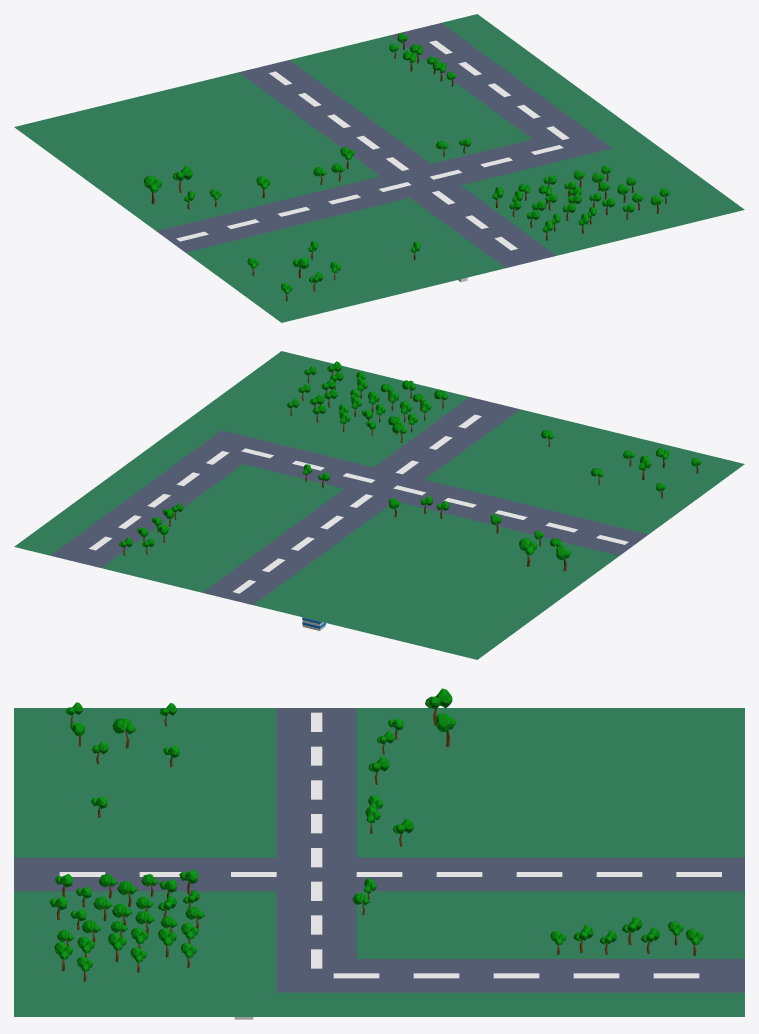
Rendered from city_iso.gltf.
The picture shows the model from 3 angles, top to bottom: view 1: azimuth 30°, elevation 25°; view 2: azimuth 150°, elevation 25°; view 3: azimuth 270°, elevation 25°; orthographic projection. The views are drawn at different scales.
Parts seen in each view (by area): view 1: ground; view 2: ground; view 3: ground.
Boxes of the visible parts, bbox=[...] form: ground: bbox=[14, 14, 744, 322]; ground: bbox=[14, 351, 744, 659]; ground: bbox=[14, 708, 744, 1016].
Size of the model in its own units: 26.96 by 3.84 by 26.96.
